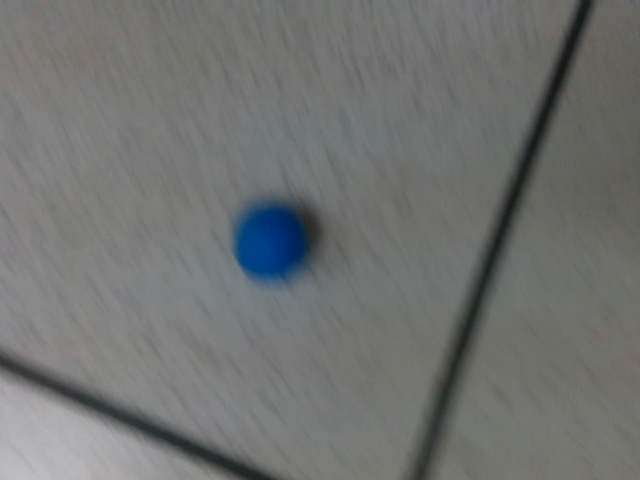blueball: (230, 199, 312, 287)
